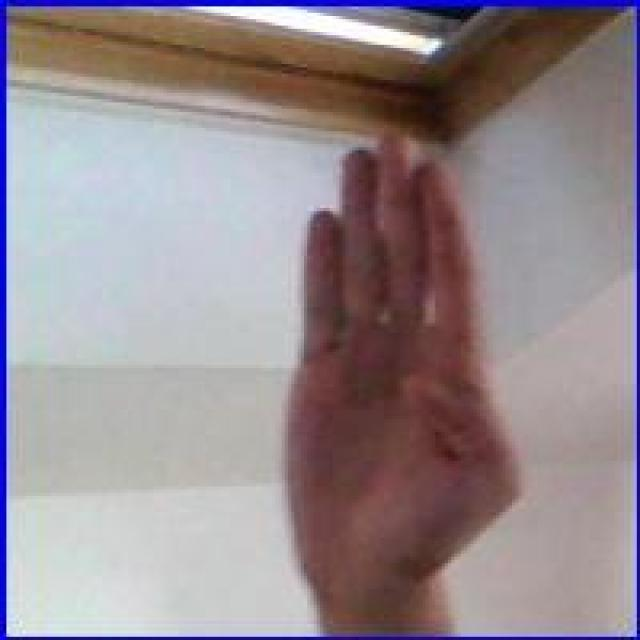B: (280, 127, 526, 622)
